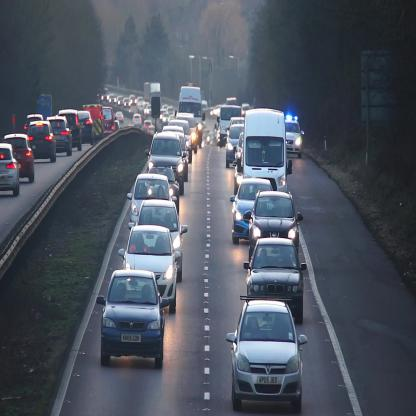car: (226, 298, 307, 412), (97, 270, 168, 369), (118, 225, 180, 314), (244, 238, 308, 324), (129, 200, 188, 283), (244, 191, 303, 263), (231, 179, 273, 245), (127, 173, 178, 227), (146, 131, 186, 196), (5, 133, 36, 184), (27, 121, 56, 163), (1, 143, 21, 198), (57, 108, 82, 152), (46, 115, 72, 157), (174, 112, 198, 154), (223, 124, 243, 168), (286, 120, 304, 162), (77, 110, 94, 146)
truck: (241, 107, 288, 191), (179, 86, 203, 147), (219, 106, 240, 146)
